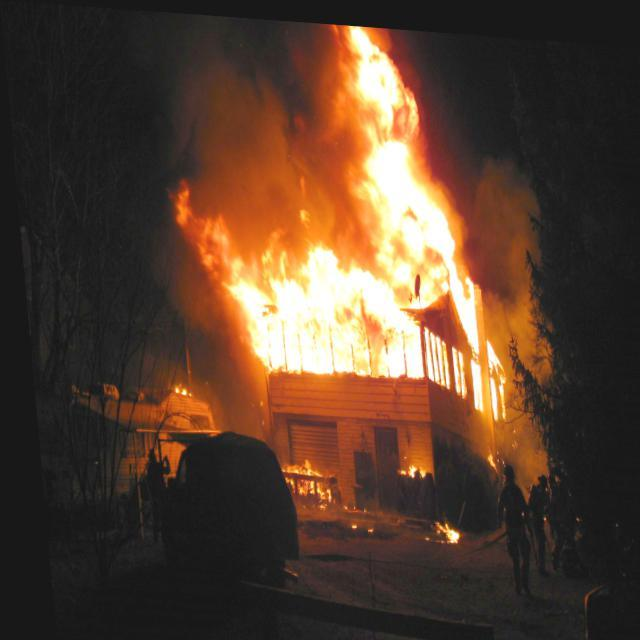Fire: (276, 448, 328, 508), (424, 508, 452, 540), (392, 452, 418, 482)
